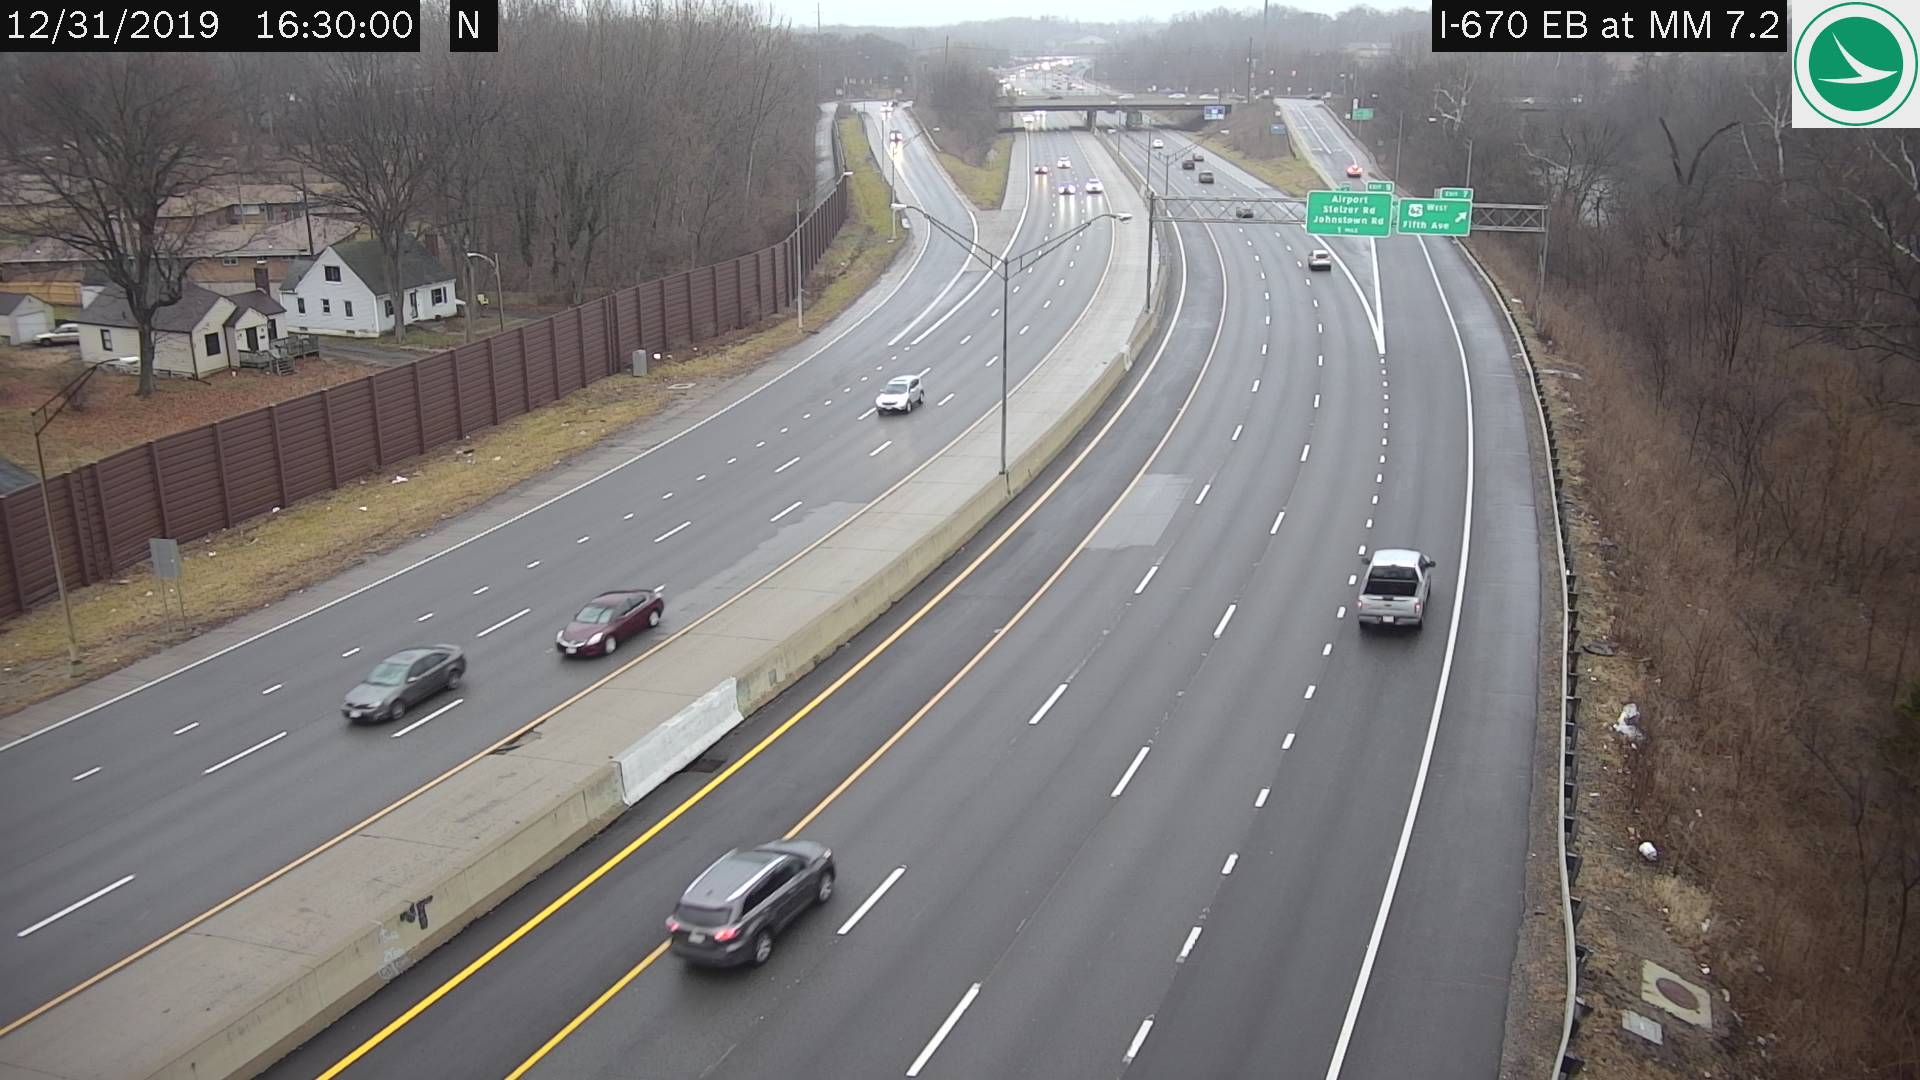car: (662, 840, 833, 976), (342, 644, 462, 720), (554, 588, 662, 655), (1358, 549, 1429, 628), (874, 376, 922, 411), (1309, 248, 1335, 268)
